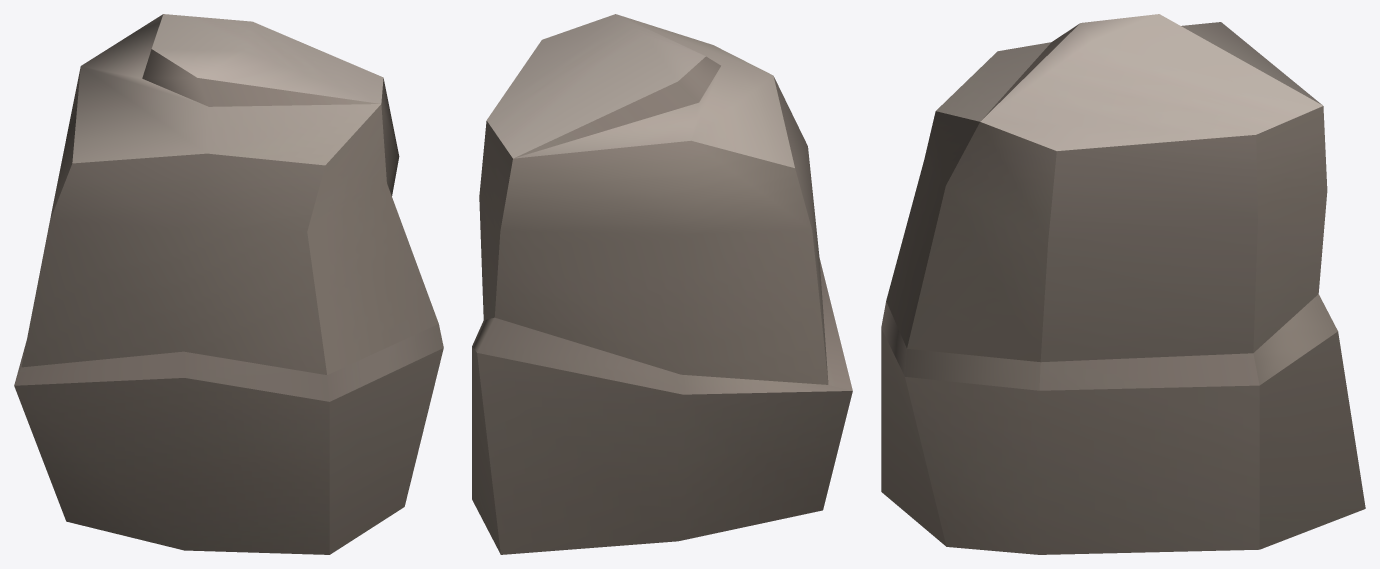
File: elf_mine_stone_01.fbx
3 renders of one model, left to right at view 1: azimuth 30°, elevation 25°; view 2: azimuth 150°, elevation 25°; view 3: azimuth 270°, elevation 25°, orthographic. The views are drawn at different scales.
Parts seen in each view (by area): view 1: elf_mine_stone_01; view 2: elf_mine_stone_01; view 3: elf_mine_stone_01.
Part boxes in pixels (x1=…): elf_mine_stone_01: x1=14, y1=14, x2=443, y2=554; elf_mine_stone_01: x1=472, y1=14, x2=852, y2=554; elf_mine_stone_01: x1=881, y1=14, x2=1365, y2=554.
Bounding box in the file's own units: 478 × 556 × 532.
